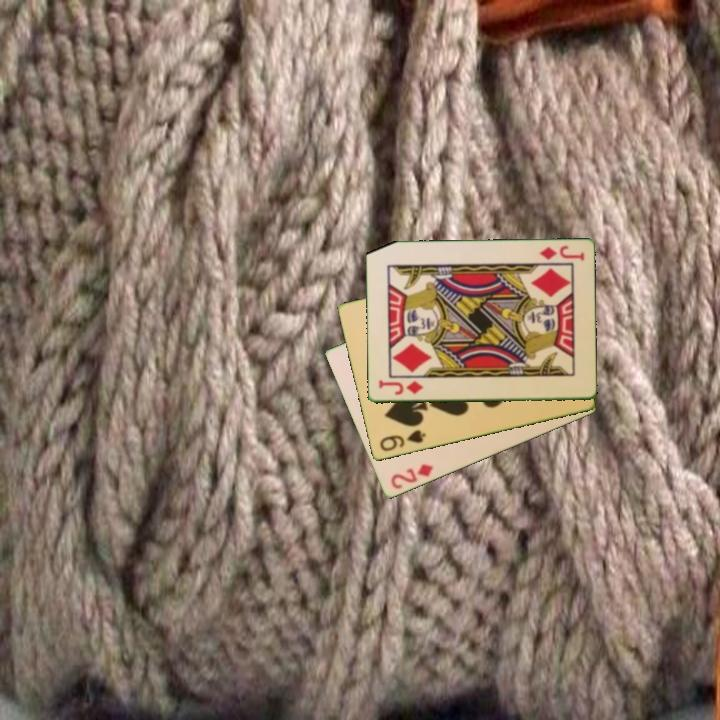2d: (387, 461, 436, 492)
9s: (376, 426, 428, 455)
Jd: (535, 242, 587, 264), (375, 377, 426, 398)
